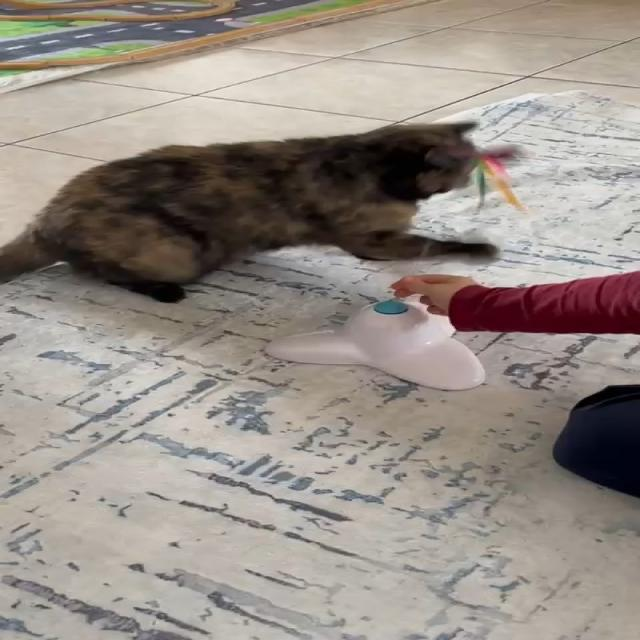authorized: (0, 119, 524, 304)
